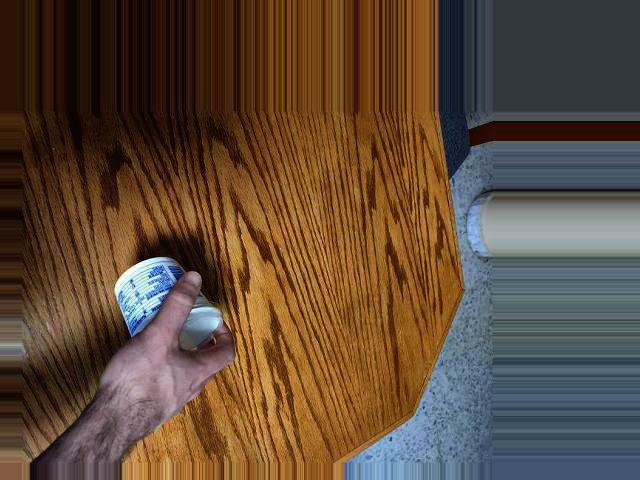cotage: (102, 266, 222, 367)
